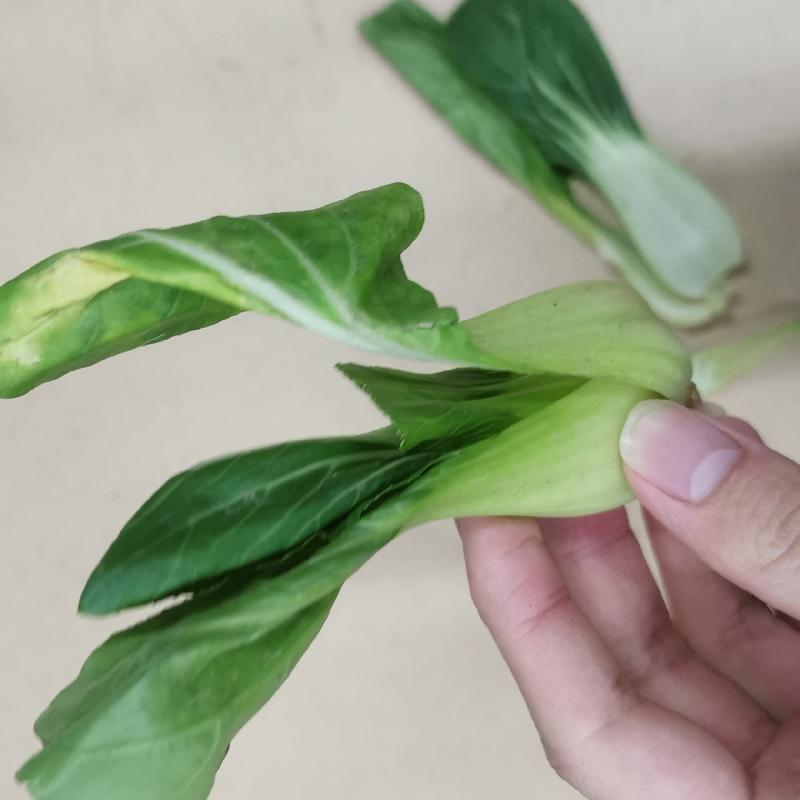green vegatable: (2, 180, 696, 799)
